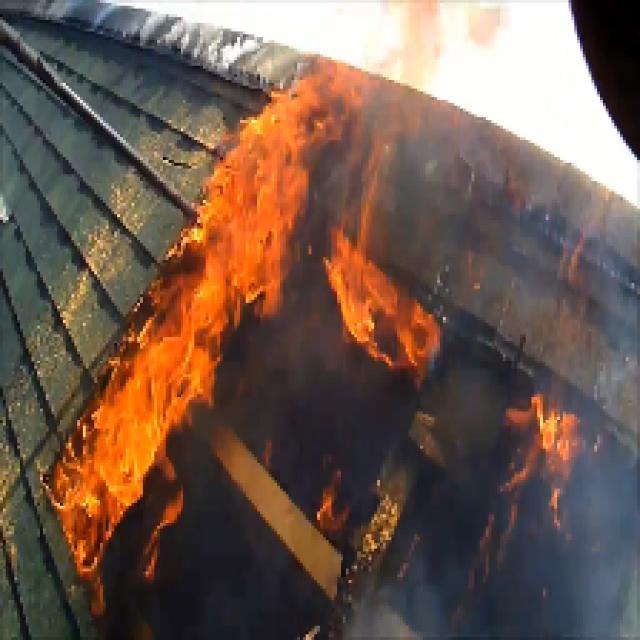fire: (234, 77, 438, 360), (88, 288, 226, 499), (520, 398, 584, 520)
